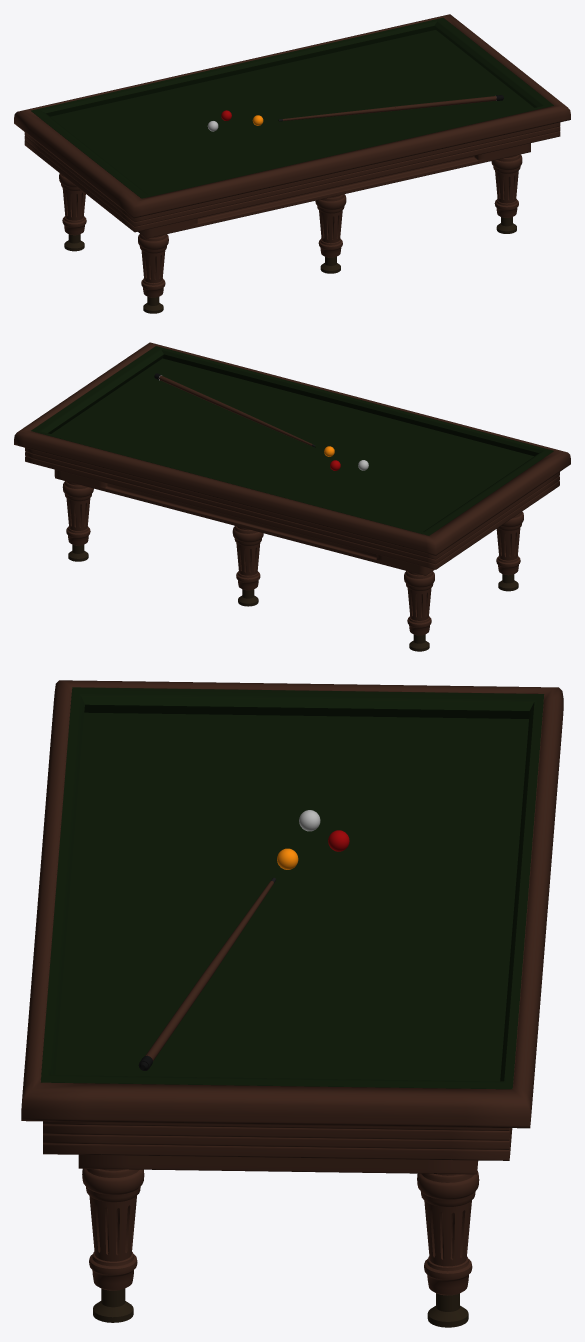
The model's file is bilardo.FBX.
The picture shows the model from 3 angles, top to bottom: view 1: azimuth 30°, elevation 25°; view 2: azimuth 150°, elevation 25°; view 3: azimuth 270°, elevation 25°; orthographic projection. The views are drawn at different scales.
Parts seen in each view (by area): view 1: Default; view 2: Default; view 3: Default.
Boxes of the visible parts, bbox=[...] form: Default: bbox=[14, 14, 570, 313]; Default: bbox=[14, 342, 570, 651]; Default: bbox=[21, 680, 563, 1327].
Size of the model in its own units: 18.72 by 10.07 by 5.42.
